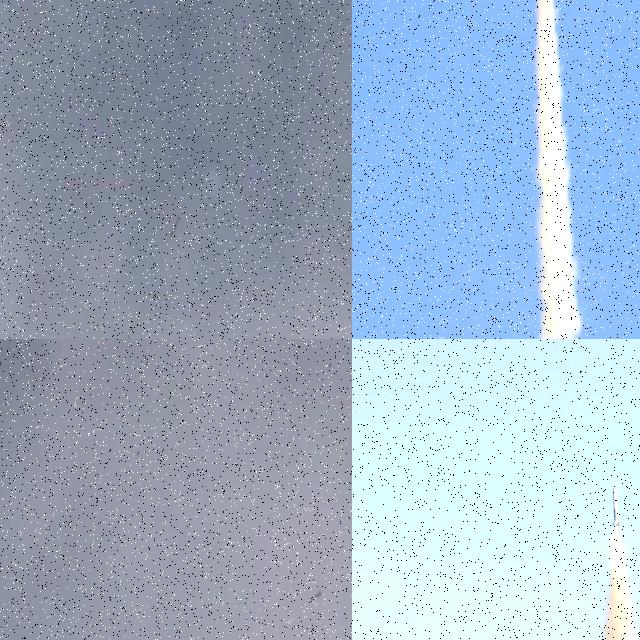Rocket: (612, 484, 619, 527), (313, 590, 324, 598), (128, 332, 135, 339)
